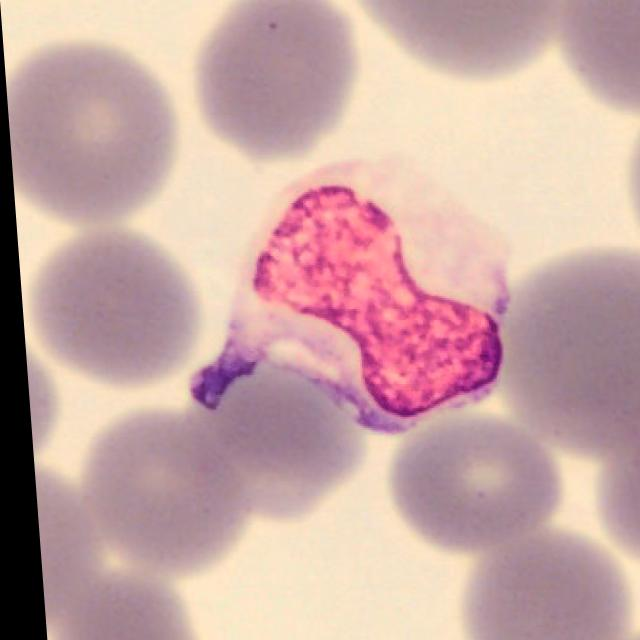Linfocito atipico: (185, 155, 508, 432)
